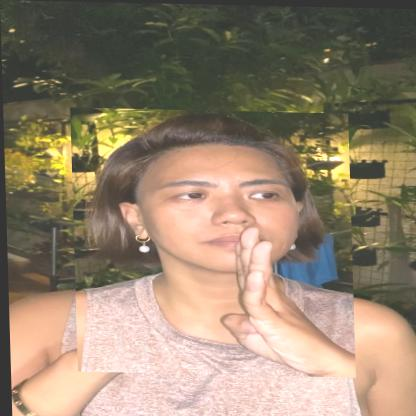Talk: (69, 108, 354, 377)
